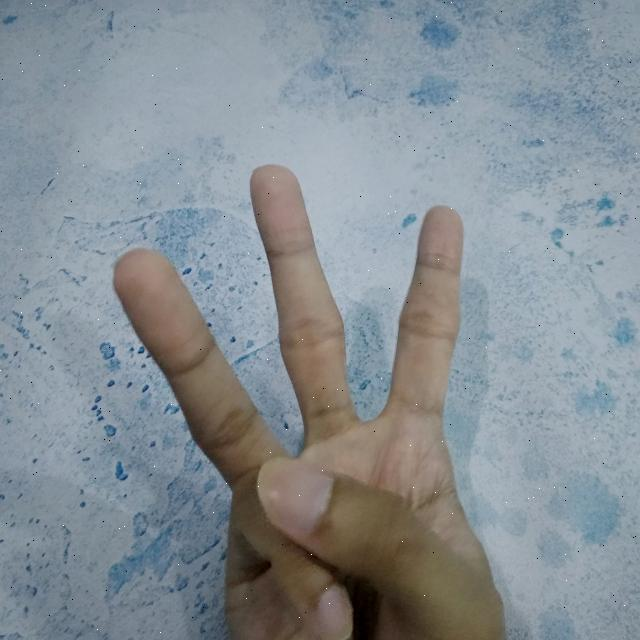W: (108, 155, 506, 640)
